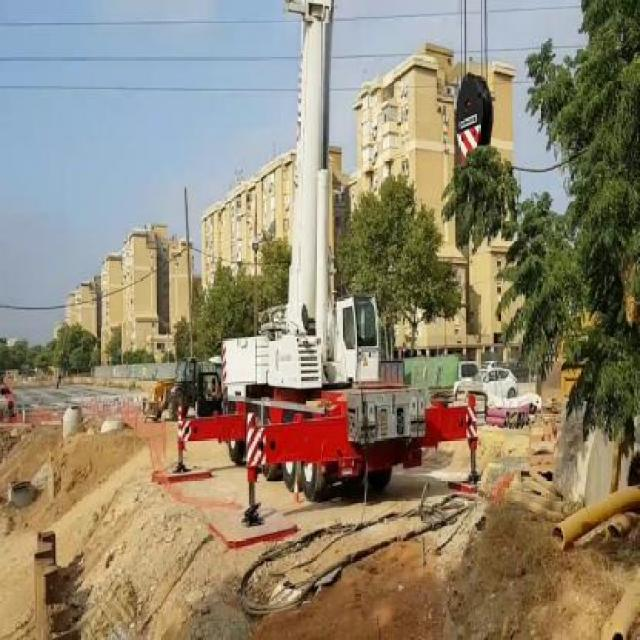Mobile Crane: (170, 0, 487, 515)
